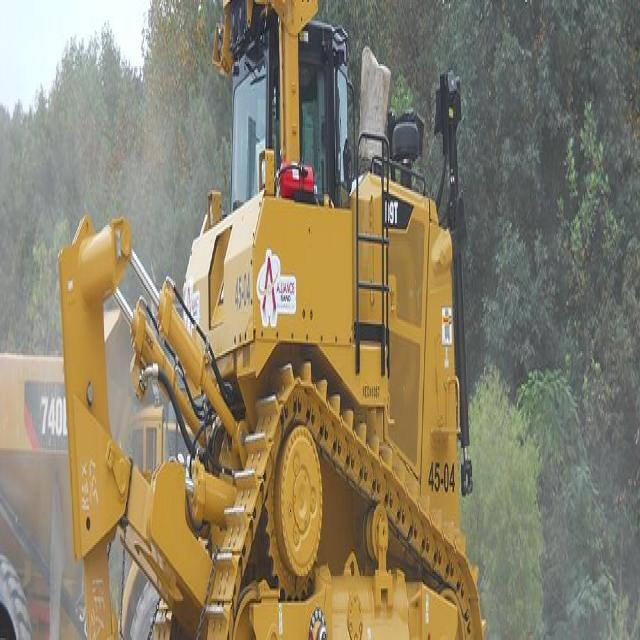Bulldozer: (37, 2, 492, 638)
